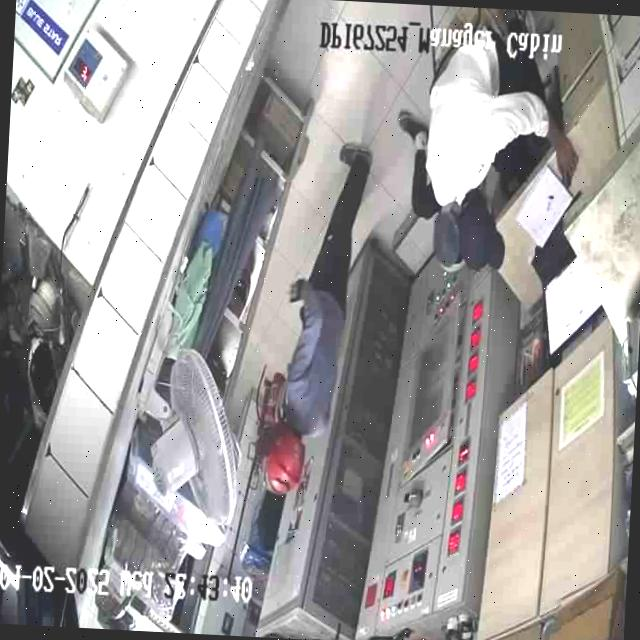helmet: (257, 424, 305, 494)
